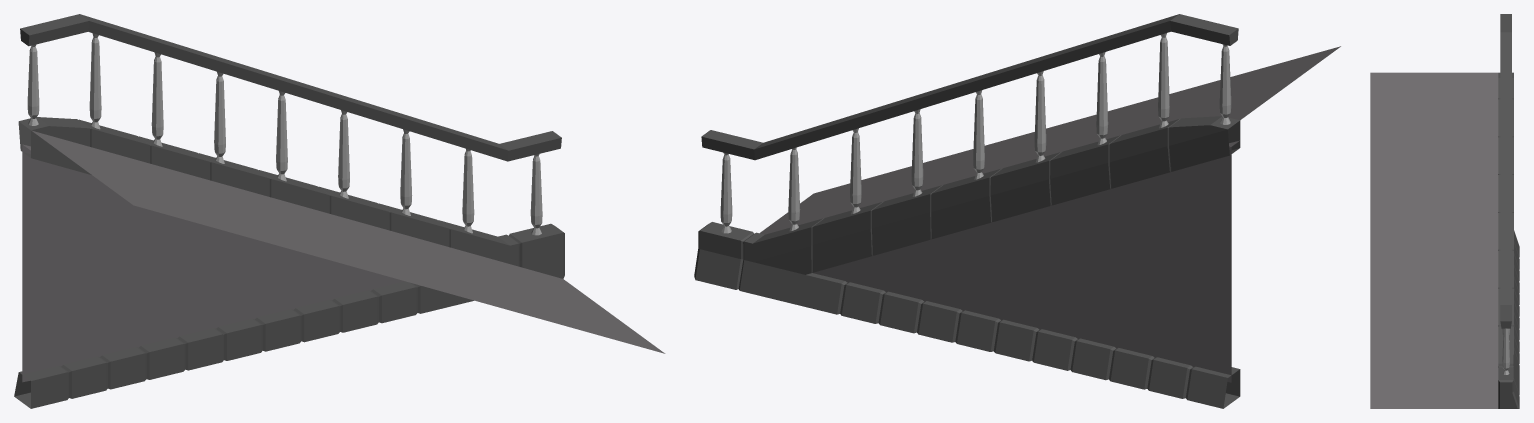
Rendered from Stairs_Bannister.fbx.
3 views of the same model, side by side, from view 1: azimuth 30°, elevation 25°; view 2: azimuth 150°, elevation 25°; view 3: azimuth 270°, elevation 25° (orthographic). The views are drawn at different scales.
Visible parts, largest first — view 1: Stairs_Bannister; view 2: Stairs_Bannister; view 3: Stairs_Bannister.
Boxes of the visible parts, x1,y1,x2,y2 form: Stairs_Bannister: (14,14,665,408); Stairs_Bannister: (694,14,1340,408); Stairs_Bannister: (1370,14,1519,408).
Size of the model in its own units: 603 by 401 by 233.
